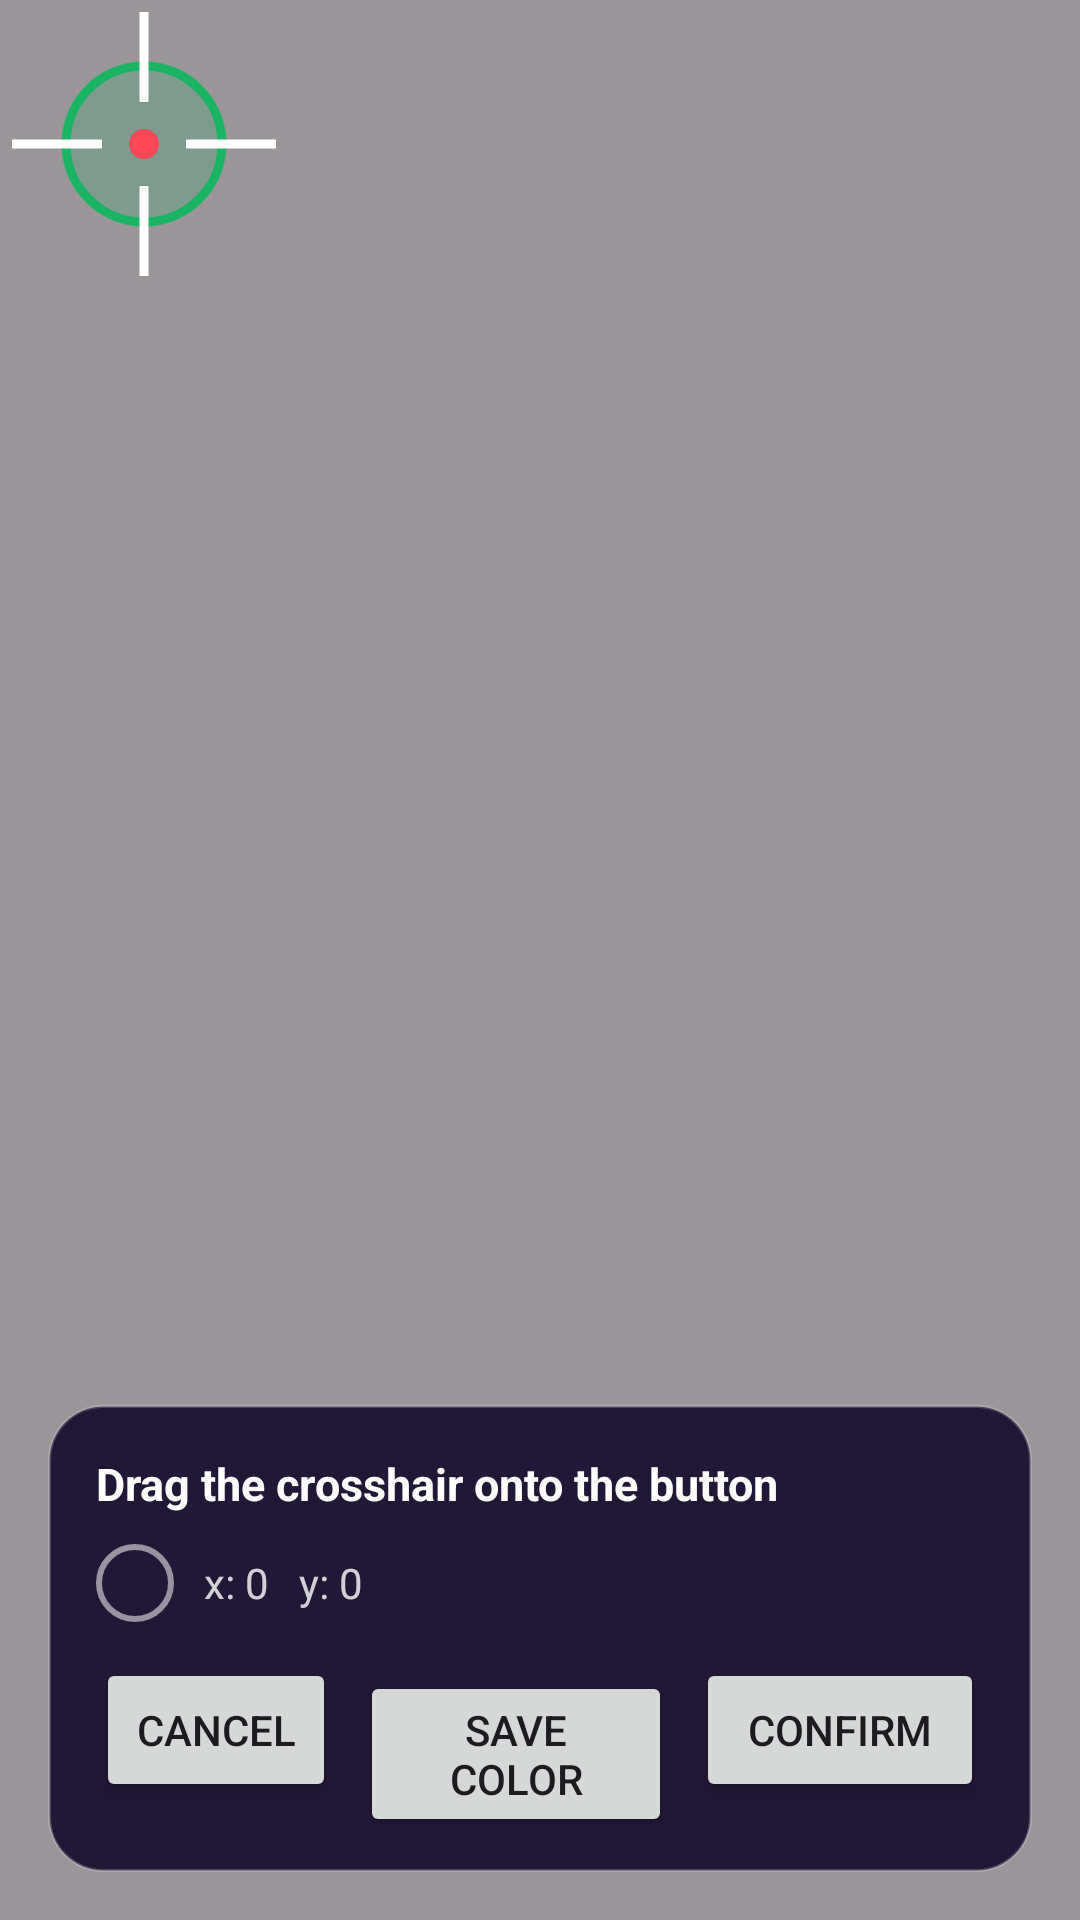

Screen size 1080*1920. Icon name, then its box in pixels as (x1, y1, x2, y2):
Drag the crosshair onto the button: (12, 12, 276, 276)
